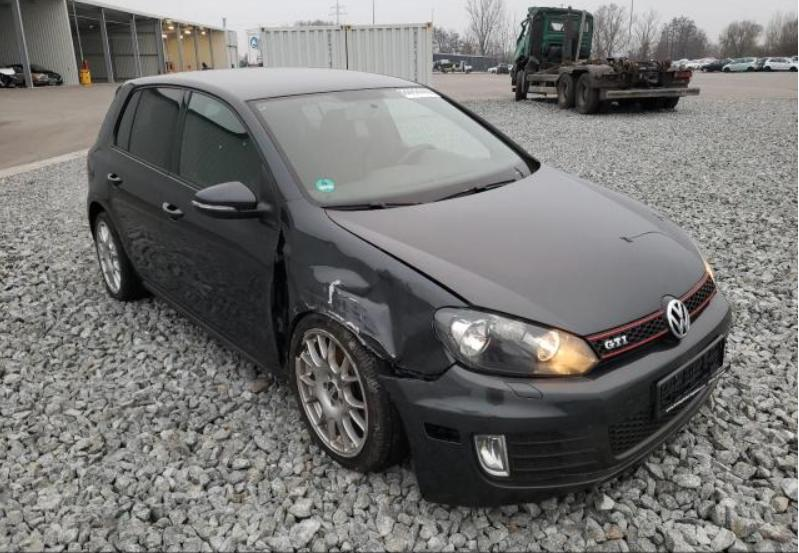Back-door: (103, 85, 184, 283)
Back-wheel: (94, 211, 143, 301)
Back-window: (130, 89, 181, 170), (117, 92, 140, 149)
Fender: (282, 201, 469, 380)
Front-bumper: (377, 288, 732, 506)
Front-door: (154, 88, 288, 373)
Front-wheel: (288, 313, 413, 473)
Front-window: (180, 93, 260, 197)
Grille: (585, 272, 719, 364)
Headlight: (433, 306, 599, 376), (697, 248, 714, 280)
Hood: (325, 165, 708, 337)
License-plate: (657, 334, 724, 422)
Mirror: (192, 181, 258, 217)
Quarter-panel: (87, 136, 107, 241)
Rocker-panel: (141, 281, 282, 376)
Roof: (123, 67, 422, 103)
Windshield: (245, 85, 540, 211)
